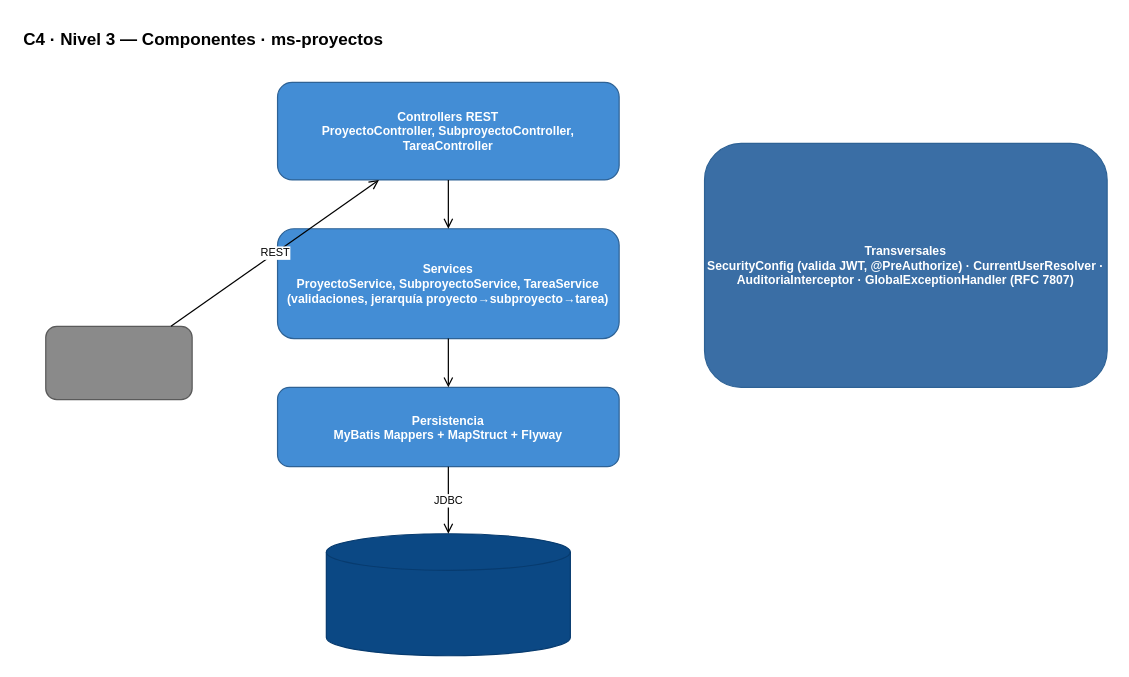
This 1129x677 diagram has some shape labels left out. The box of each missing label's shape, as (x1, y1, x2, y2) in pixels:
API Gateway: (45, 325, 192, 400)
BD Proyectos [PostgreSQL] msp_proyecto, msp_subproyecto, msp_tarea: (325, 533, 570, 656)
